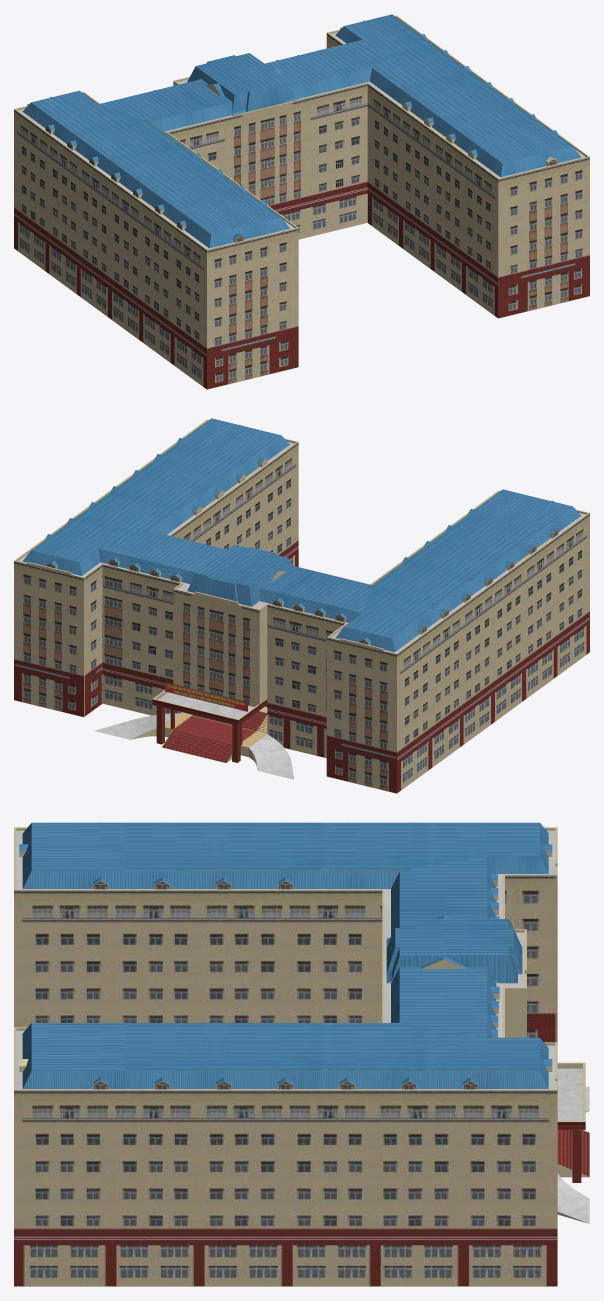
3 views of the same model, one above another, from view 1: azimuth 30°, elevation 25°; view 2: azimuth 150°, elevation 25°; view 3: azimuth 270°, elevation 25° (orthographic). The views are drawn at different scales.
Parts seen in each view (by area): view 1: HN1063_B?_TU_L?NH_C?NH_V?; view 2: HN1063_B?_TU_L?NH_C?NH_V?; view 3: HN1063_B?_TU_L?NH_C?NH_V?.
Part boxes in pixels (left/top/right/bottom): HN1063_B?_TU_L?NH_C?NH_V?: left=14, top=14, right=589, bottom=389; HN1063_B?_TU_L?NH_C?NH_V?: left=14, top=418, right=589, bottom=793; HN1063_B?_TU_L?NH_C?NH_V?: left=14, top=822, right=589, bottom=1286.
Bounding box in the file's own units: 71 × 27.4 × 65.7.
1 material, 1 textured.
